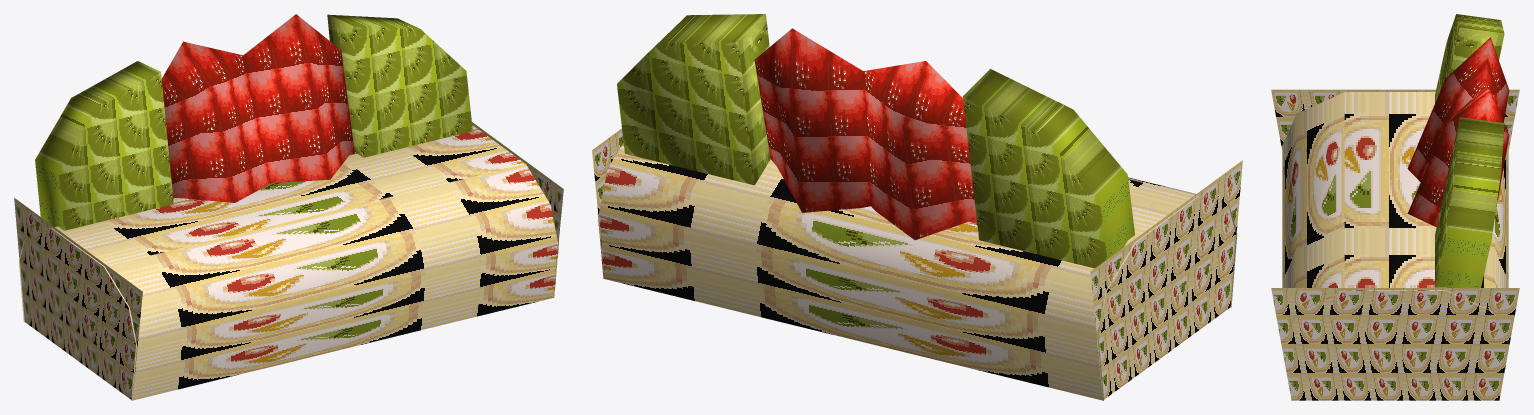
File: 3142IMFY02_04.gltf
3 views of the same model, side by side, from view 1: azimuth 30°, elevation 25°; view 2: azimuth 150°, elevation 25°; view 3: azimuth 270°, elevation 25° (orthographic). The views are drawn at different scales.
Visible parts, largest first — view 1: 3142IMFY02_04; view 2: 3142IMFY02_04; view 3: 3142IMFY02_04.
Boxes of the visible parts, x1,y1,x2,y2 form: 3142IMFY02_04: [14, 14, 563, 400]; 3142IMFY02_04: [592, 14, 1242, 400]; 3142IMFY02_04: [1271, 14, 1519, 400].
Size of the model in its own units: 1.93 by 1.07 by 1.02.
3 materials, 3 textured.
